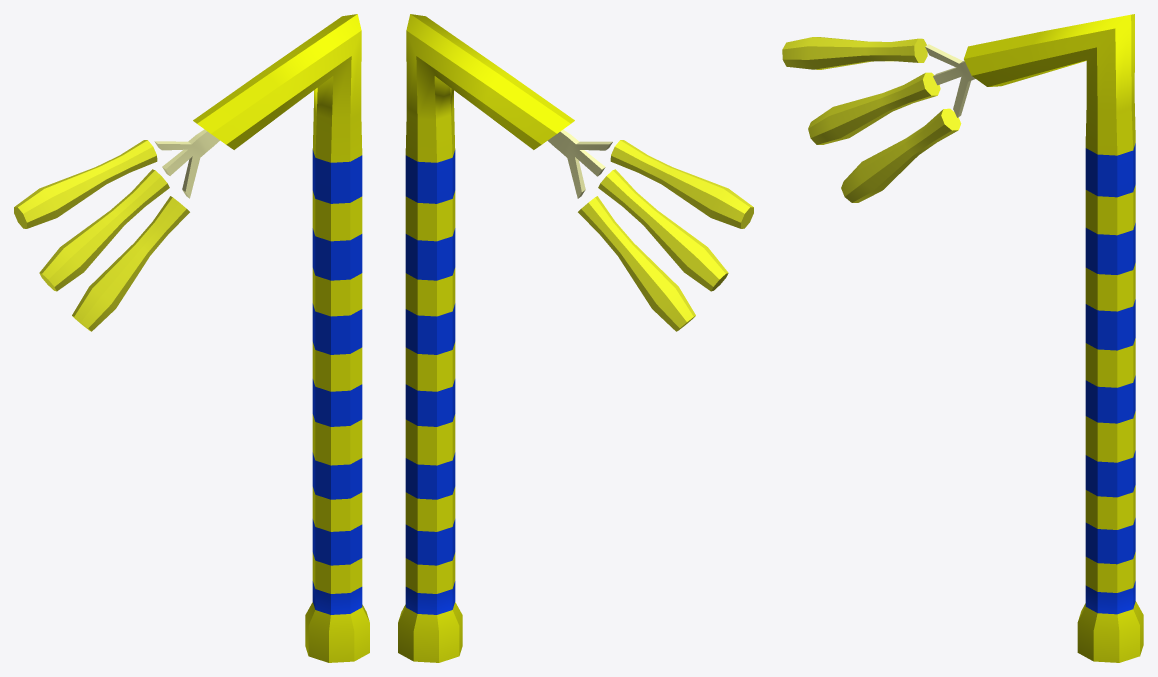
The model's file is flail.obj.
3 views of the same model, side by side, from view 1: azimuth 30°, elevation 25°; view 2: azimuth 150°, elevation 25°; view 3: azimuth 330°, elevation 25° (orthographic).
Visible parts, largest first — view 1: flailBase1; view 2: flailBase1; view 3: flailBase1.
Boxes of the visible parts, x1,y1,x2,y2 form: flailBase1: (14,14,369,662); flailBase1: (398,14,753,662); flailBase1: (782,14,1143,662).
Size of the model in its own units: 3.14 by 5.43 by 0.5232.
Materials: 1 (1 with a texture image).
